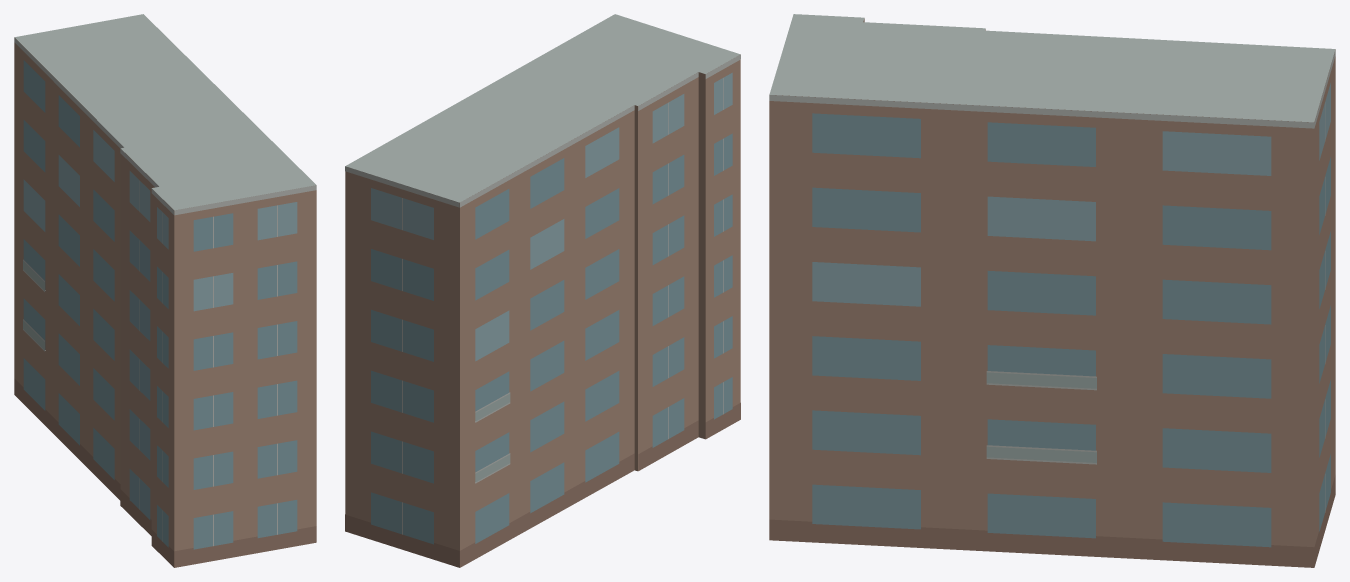
Rendered from survey-upis-32567276.glb.
The picture shows the model from 3 angles, left to right: view 1: azimuth 30°, elevation 25°; view 2: azimuth 150°, elevation 25°; view 3: azimuth 270°, elevation 25°; orthographic projection. The views are drawn at different scales.
Parts seen in each view (by area): view 1: survey-upis-32567276.tmp; view 2: survey-upis-32567276.tmp; view 3: survey-upis-32567276.tmp.
Part boxes in pixels (x1,y1,x2,y2): survey-upis-32567276.tmp: [14, 14, 316, 567]; survey-upis-32567276.tmp: [345, 14, 740, 567]; survey-upis-32567276.tmp: [769, 14, 1335, 567].
Bounding box in the file's own units: 9.2 × 17.6 × 20.28.
